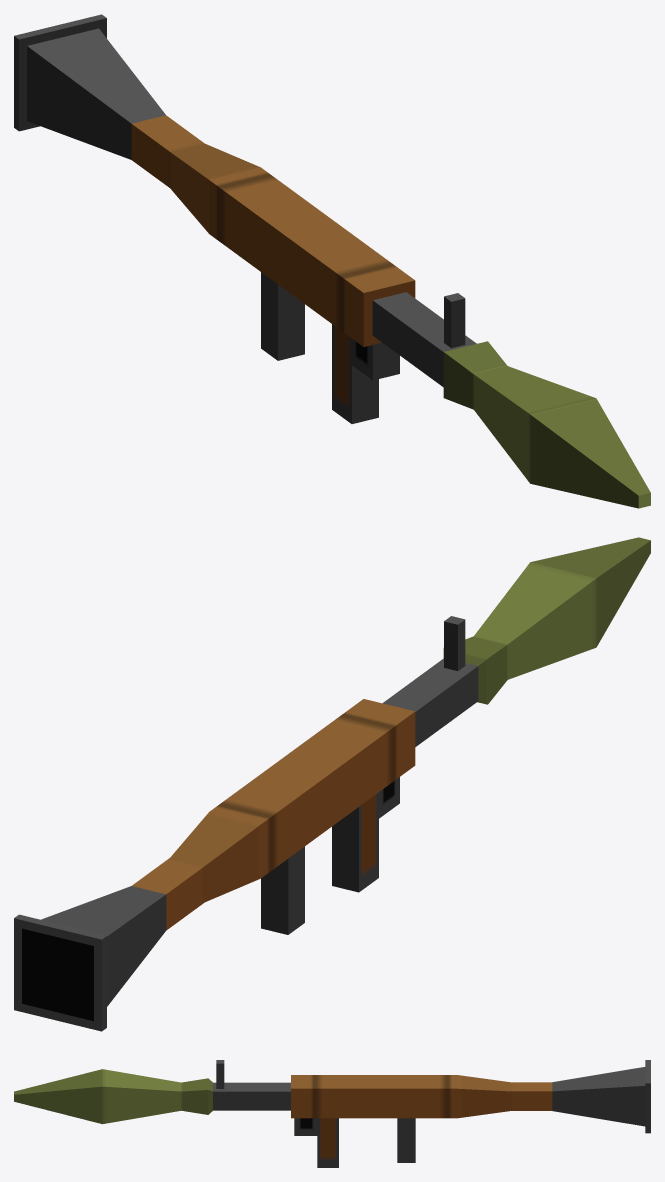
Rendered from SK_Wep_RPG_01.fbx.
The picture shows the model from 3 angles, top to bottom: view 1: azimuth 30°, elevation 25°; view 2: azimuth 150°, elevation 25°; view 3: azimuth 270°, elevation 25°; orthographic projection. The views are drawn at different scales.
Visible parts, largest first — view 1: SK_Wep_RPG_01; view 2: SK_Wep_RPG_01; view 3: SK_Wep_RPG_01.
Part boxes in pixels (box(x1,y1,x2,y2)): SK_Wep_RPG_01: box(14, 14, 650, 508); SK_Wep_RPG_01: box(14, 537, 650, 1031); SK_Wep_RPG_01: box(14, 1060, 650, 1167).
Size of the model in its own units: 31.12 by 63.94 by 360.
